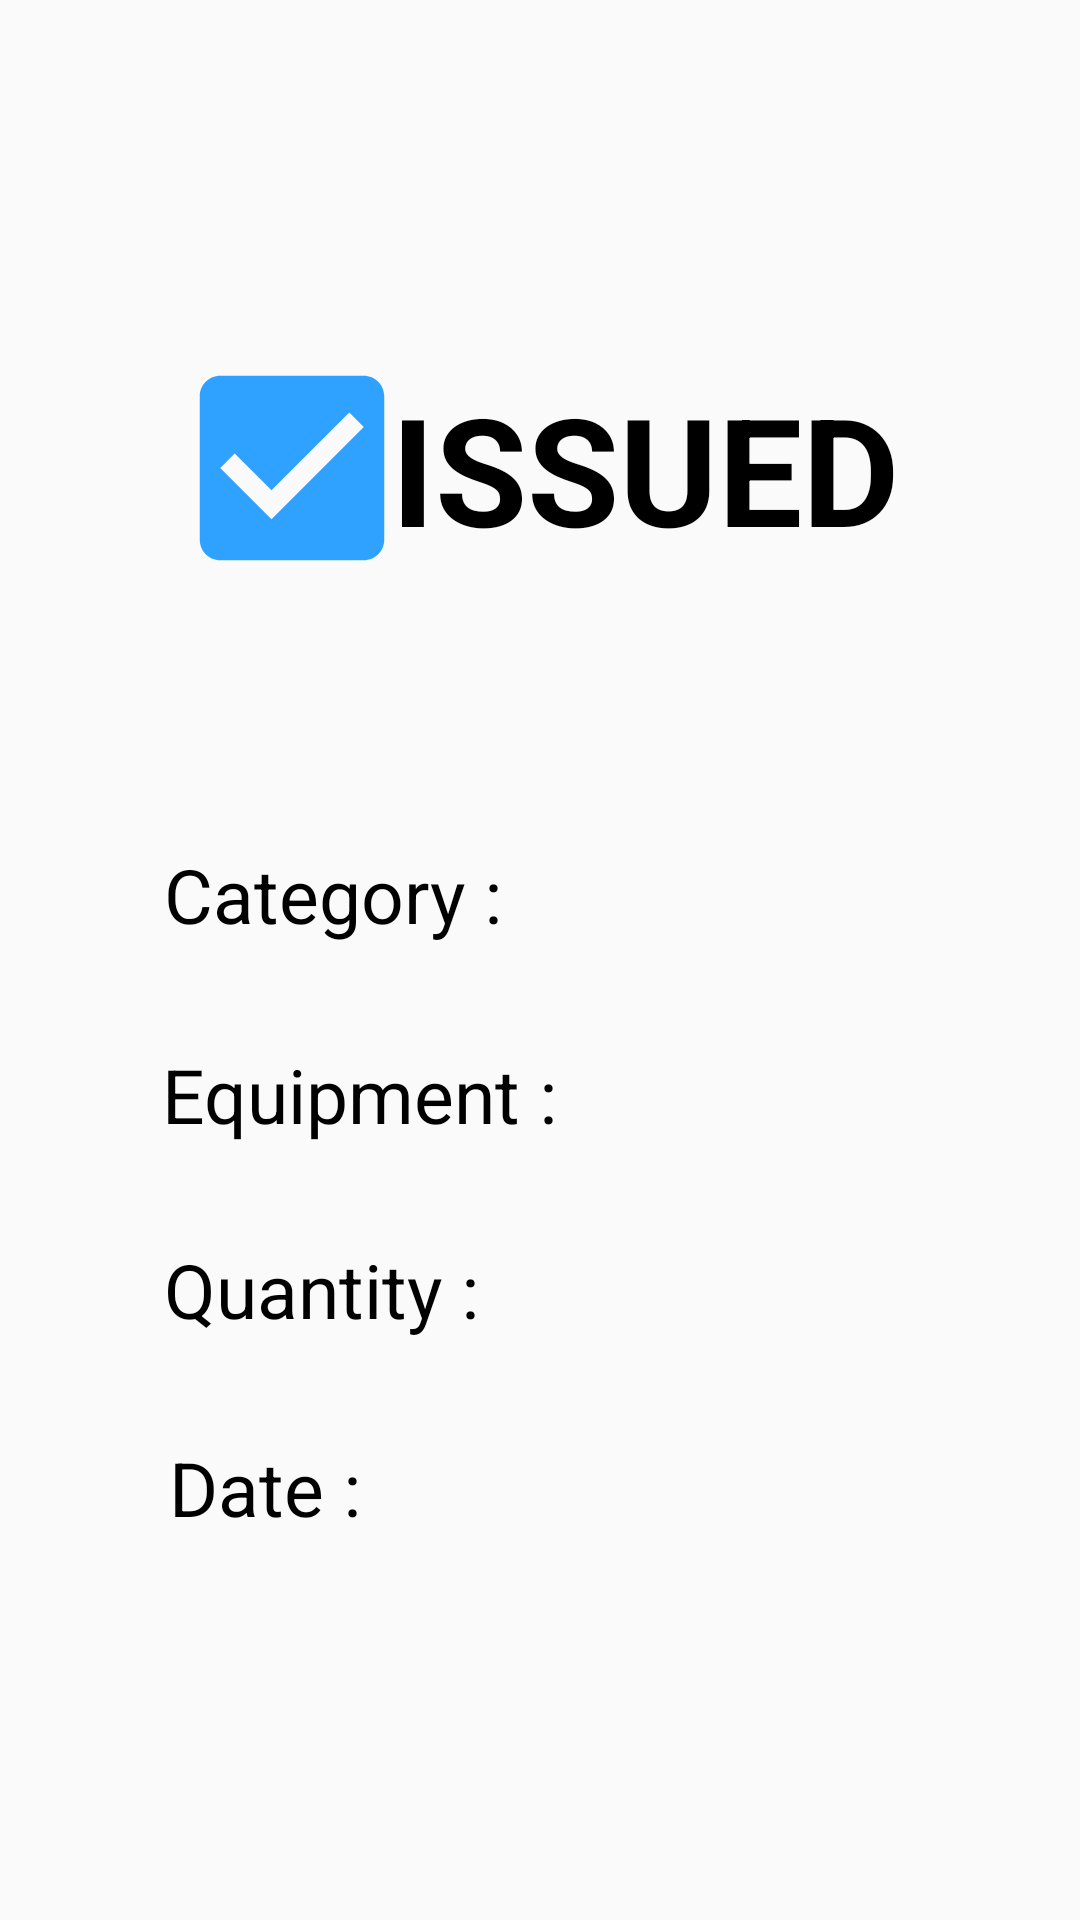

Locate icon controls on the screen. Image size 1080px×1920px, boxes as (x1, y1, x2, y2).
check box: (199, 375, 424, 561)
